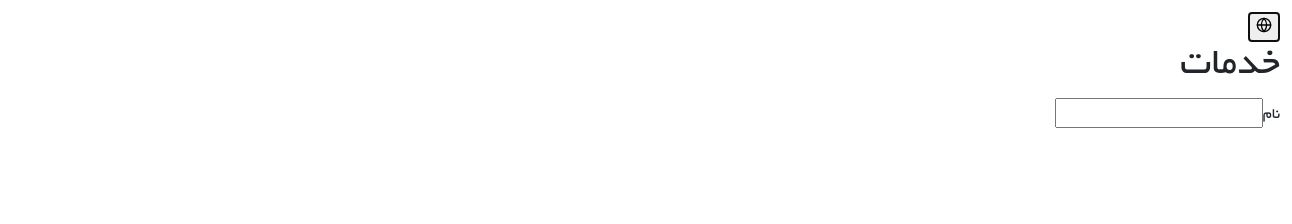
Test: menu options support arrow-key navigation and Escape dismisses without changing language
Click the button named "انتخاب زبان".
click(1264, 27)  # box [1248,12,1280,42]
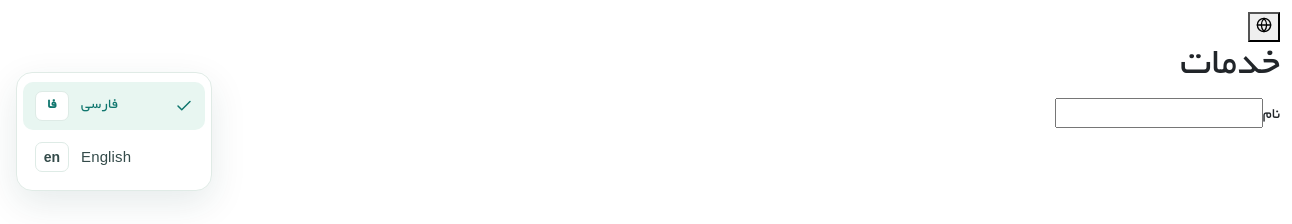
Press ArrowDown in the menu item "فا فارسی", box [23,82,205,130]
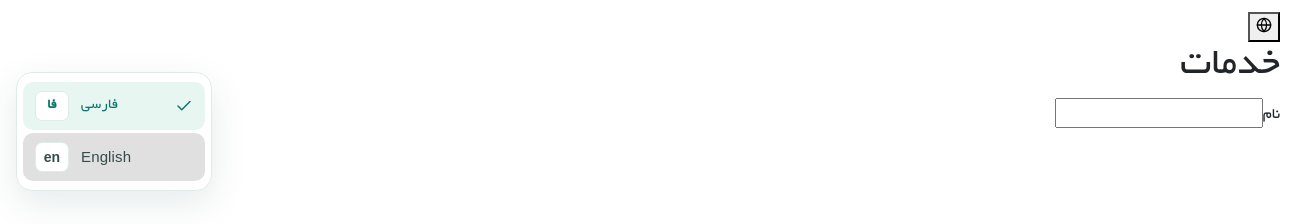
Press Escape in the menu item "en English", box [23,133,205,181]
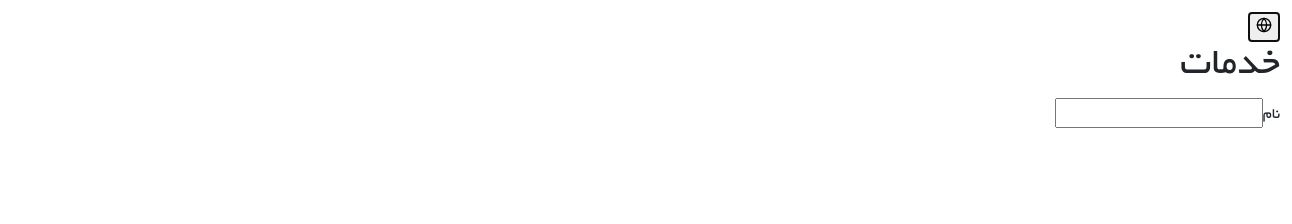
Expected: the heading "خدمات" is shown, [1180,46,1280,86]
Now the menu is gone
